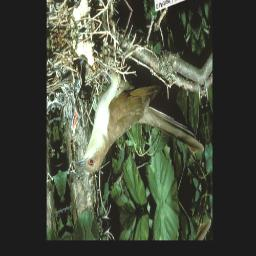Cuckoo: (67, 40, 204, 203)
